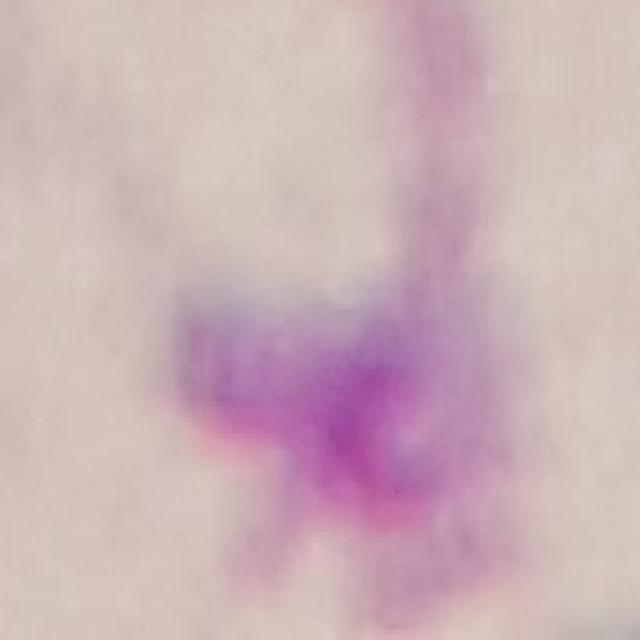non-sperm: (170, 273, 554, 565)
